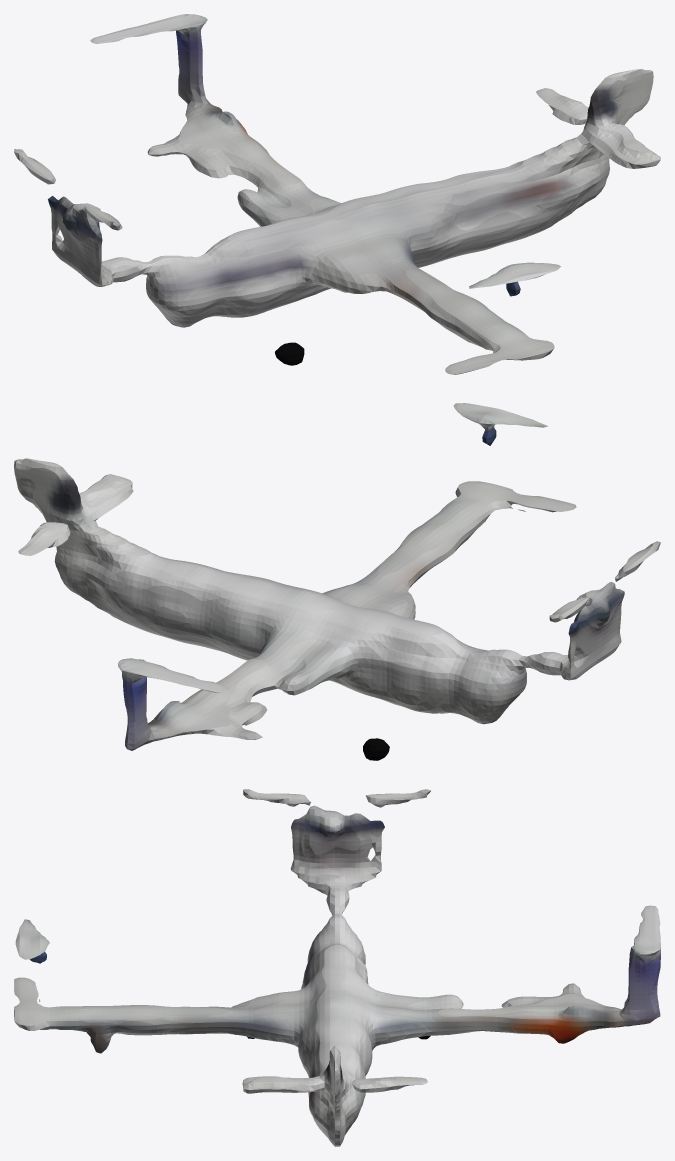
The picture shows the model from 3 angles, top to bottom: view 1: azimuth 30°, elevation 25°; view 2: azimuth 150°, elevation 25°; view 3: azimuth 270°, elevation 25°; orthographic projection. The views are drawn at different scales.
Parts seen in each view (by area): view 1: geometry_0; view 2: geometry_0; view 3: geometry_0.
Boxes of the visible parts, <box> form: geometry_0: <box>14,14,660,374</box>; geometry_0: <box>14,403,660,760</box>; geometry_0: <box>14,789,660,1146</box>.
Size of the model in its own units: 1.52 by 0.4577 by 1.6.
